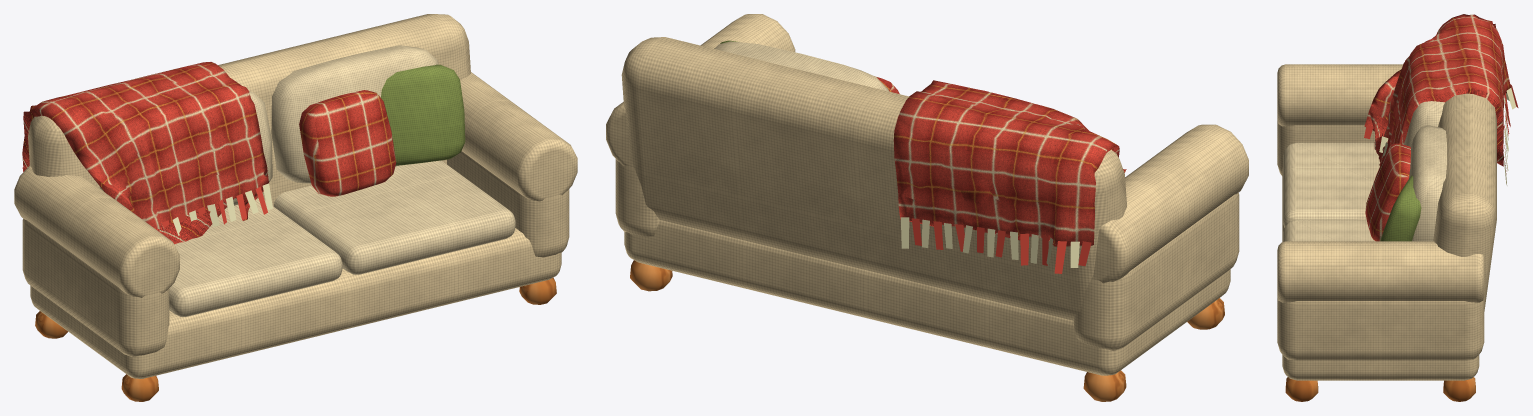
The model's file is sofa.glb.
The picture shows the model from 3 angles, left to right: view 1: azimuth 30°, elevation 25°; view 2: azimuth 150°, elevation 25°; view 3: azimuth 270°, elevation 25°; orthographic projection. The views are drawn at different scales.
Visible parts, largest first — view 1: model; view 2: model; view 3: model.
Boxes of the visible parts, left/top/right/bottom form: model: left=14, top=14, right=577, bottom=401; model: left=606, top=14, right=1248, bottom=401; model: left=1277, top=14, right=1518, bottom=401.
Bounding box in the file's own units: 1.95 × 0.9242 × 0.9793.
Materials: 5 (5 with a texture image).
